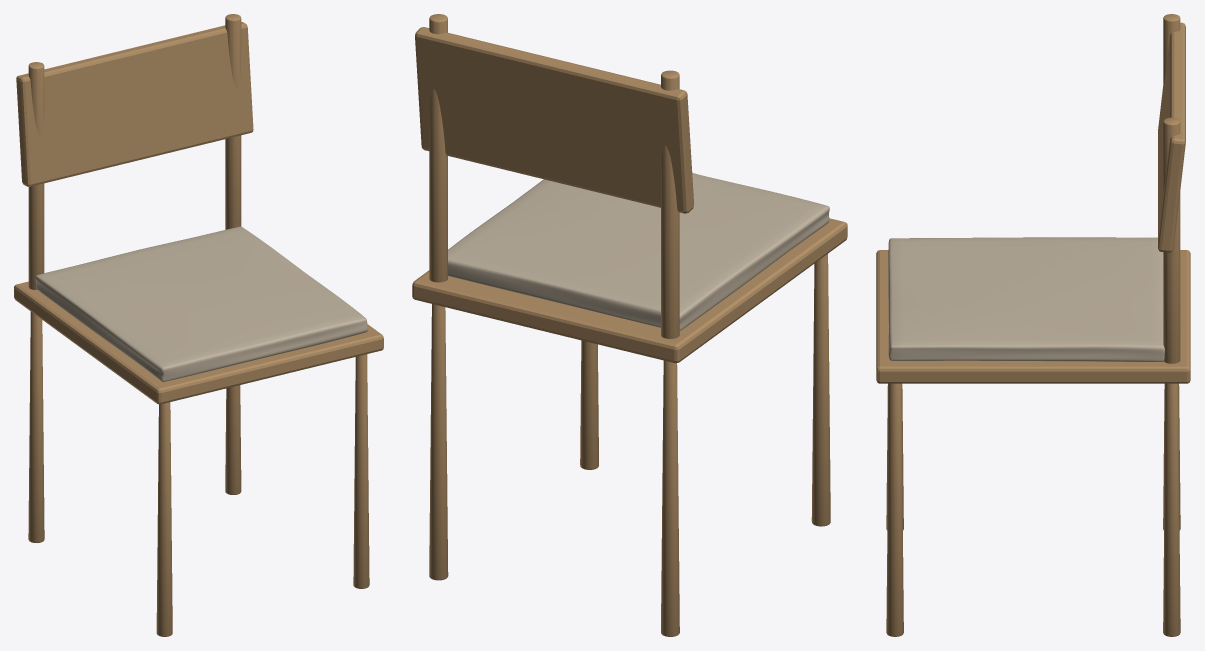
Rendered from stuhl.glb.
3 renders of one model, left to right at view 1: azimuth 30°, elevation 25°; view 2: azimuth 150°, elevation 25°; view 3: azimuth 270°, elevation 25°, orthographic. The views are drawn at different scales.
Parts seen in each view (by area): view 1: Polster, Lehne, Sitz, Bein1, Bein0, Bein2, Lehnenstab-1, Lehnenstab1, Bein3; view 2: Polster, Lehne, Sitz, Bein2, Bein3, Bein0, Lehnenstab1, Lehnenstab-1, Bein1; view 3: Polster, Sitz, Lehne, Bein1, Bein3, Lehnenstab1, Lehnenstab-1, Bein0, Bein2.
Part boxes in pixels (x1=…): Polster: x1=35, y1=226, x2=367, y2=381; Lehne: x1=16, y1=22, x2=253, y2=186; Sitz: x1=14, y1=281, x2=383, y2=404; Bein1: x1=353, y1=354, x2=369, y2=588; Bein0: x1=156, y1=402, x2=172, y2=636; Bein2: x1=28, y1=311, x2=44, y2=542; Lehnenstab-1: x1=28, y1=62, x2=44, y2=289; Lehnenstab1: x1=225, y1=14, x2=241, y2=229; Bein3: x1=225, y1=385, x2=241, y2=494; Polster: x1=448, y1=173, x2=829, y2=330; Lehne: x1=415, y1=27, x2=694, y2=213; Sitz: x1=412, y1=218, x2=847, y2=363; Bein2: x1=661, y1=360, x2=679, y2=636; Bein3: x1=429, y1=304, x2=448, y2=580; Bein0: x1=811, y1=254, x2=830, y2=526; Lehnenstab1: x1=429, y1=14, x2=447, y2=282; Lehnenstab-1: x1=661, y1=70, x2=679, y2=338; Bein1: x1=580, y1=340, x2=598, y2=469; Polster: x1=888, y1=237, x2=1164, y2=361; Sitz: x1=876, y1=250, x2=1190, y2=383; Lehne: x1=1158, y1=22, x2=1185, y2=252; Bein1: x1=886, y1=383, x2=903, y2=636; Bein3: x1=1163, y1=383, x2=1180, y2=636; Lehnenstab1: x1=1163, y1=117, x2=1180, y2=363; Lehnenstab-1: x1=1163, y1=14, x2=1180, y2=89; Bein0: x1=886, y1=383, x2=903, y2=530; Bein2: x1=1163, y1=383, x2=1180, y2=530.
Bounding box in the file's own units: 0.45 × 0.9 × 0.5.
